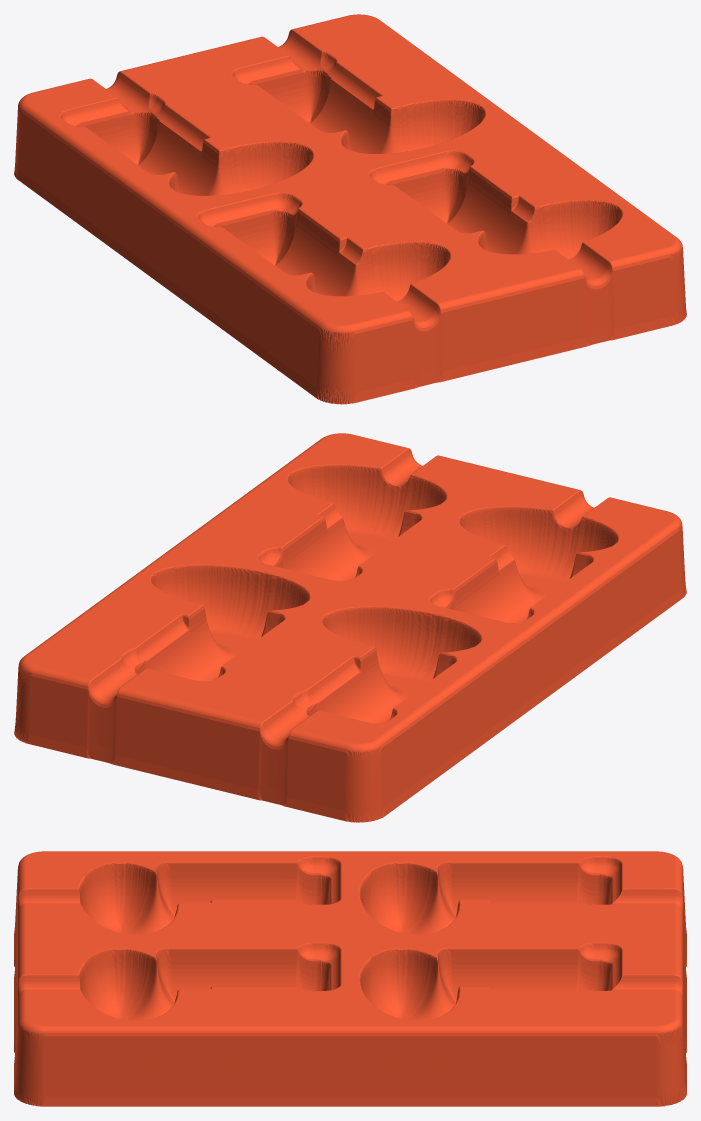
The model's file is mold.glb.
3 views of the same model, one above another, from view 1: azimuth 30°, elevation 25°; view 2: azimuth 150°, elevation 25°; view 3: azimuth 270°, elevation 25° (orthographic). The views are drawn at different scales.
Visible parts, largest first — view 1: geometry_0; view 2: geometry_0; view 3: geometry_0.
Part boxes in pixels (box(x1,y1,x2,y2)): geometry_0: box(14, 14, 686, 404); geometry_0: box(14, 433, 686, 822); geometry_0: box(14, 851, 686, 1106).
Size of the model in its own units: 0.1272 by 0.0245 by 0.1968.
